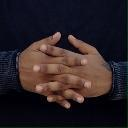hand: (18, 31, 92, 110), (33, 35, 113, 102)
